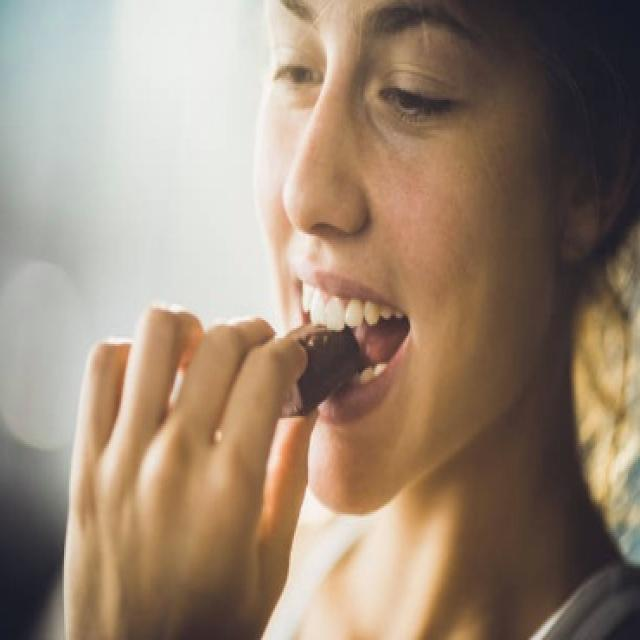adult: (111, 0, 639, 638)
